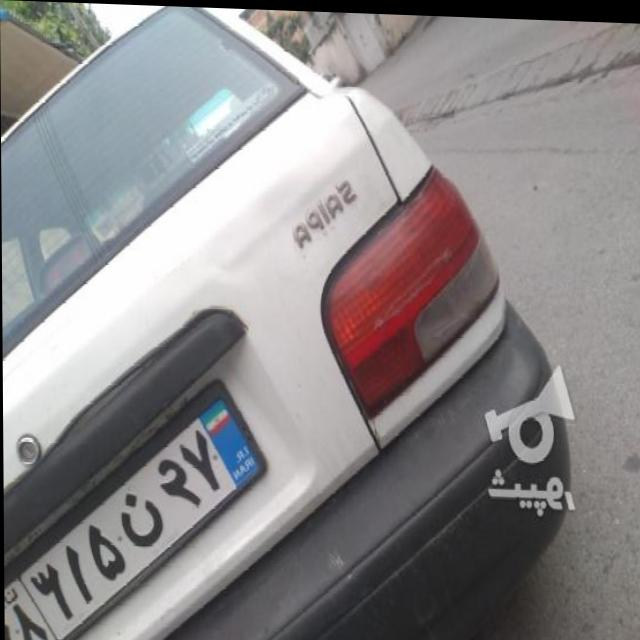licence: (7, 363, 273, 640)
